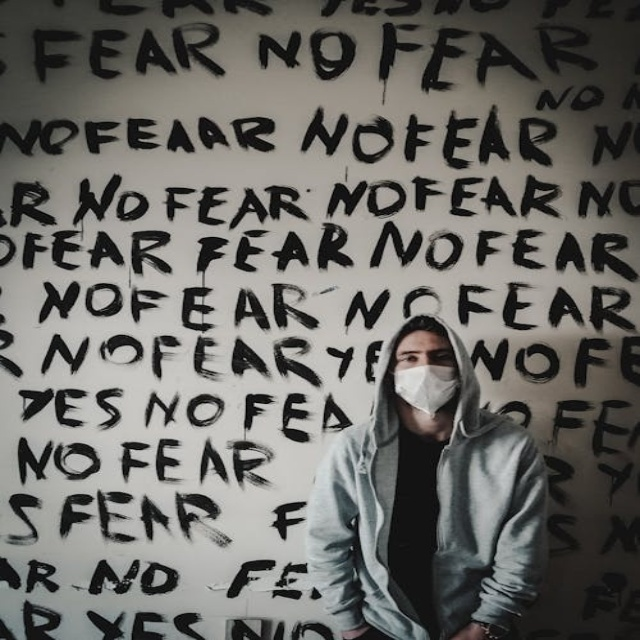Mascara: (392, 366, 461, 415)
Sin_gafas: (393, 346, 451, 366)
